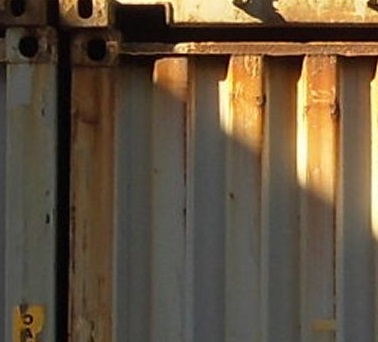container_no_door: (68, 32, 373, 341)
